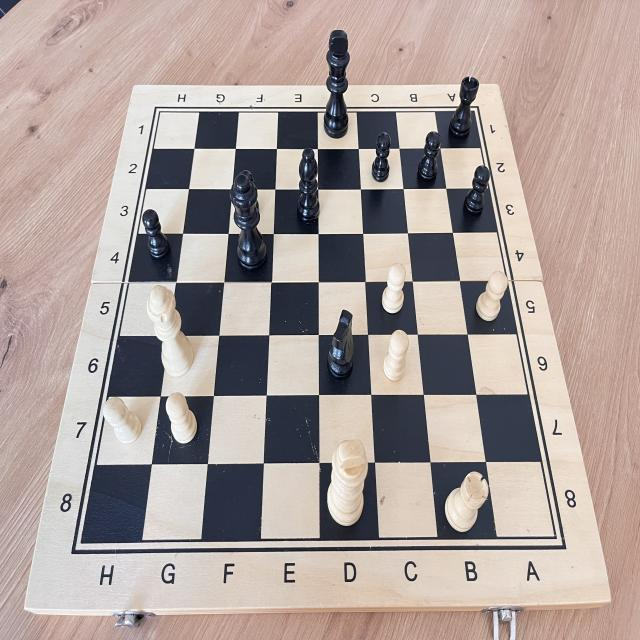black-bishop: (290, 143, 325, 230)
black-king: (319, 21, 353, 142)
black-knight: (321, 302, 361, 388)
black-pawn: (458, 163, 493, 228), (138, 205, 172, 266), (413, 127, 446, 189), (365, 128, 394, 186)
black-queen: (220, 162, 272, 276)
black-rook: (444, 69, 483, 148)
white-king: (324, 432, 371, 532)
white-pawn: (160, 388, 207, 454), (98, 392, 148, 450), (469, 265, 513, 327), (376, 257, 415, 319), (379, 326, 415, 386)
white-queen: (142, 280, 201, 385)
white-rook: (440, 465, 490, 536)
